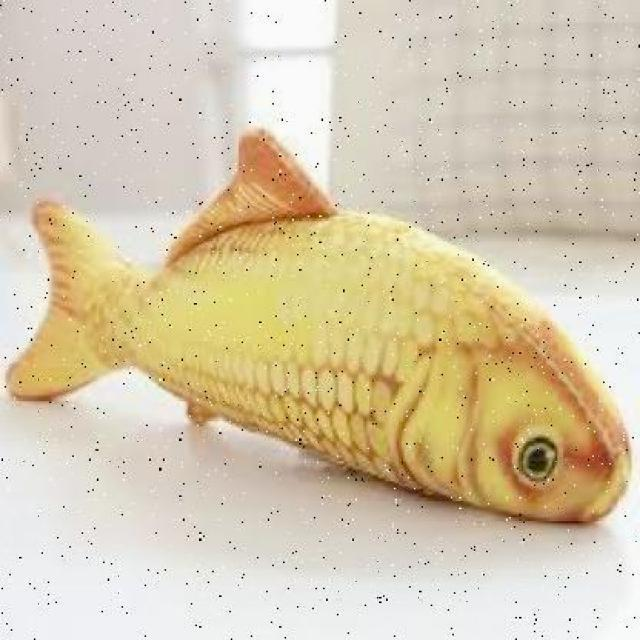ikan-mas: (30, 163, 635, 522)
